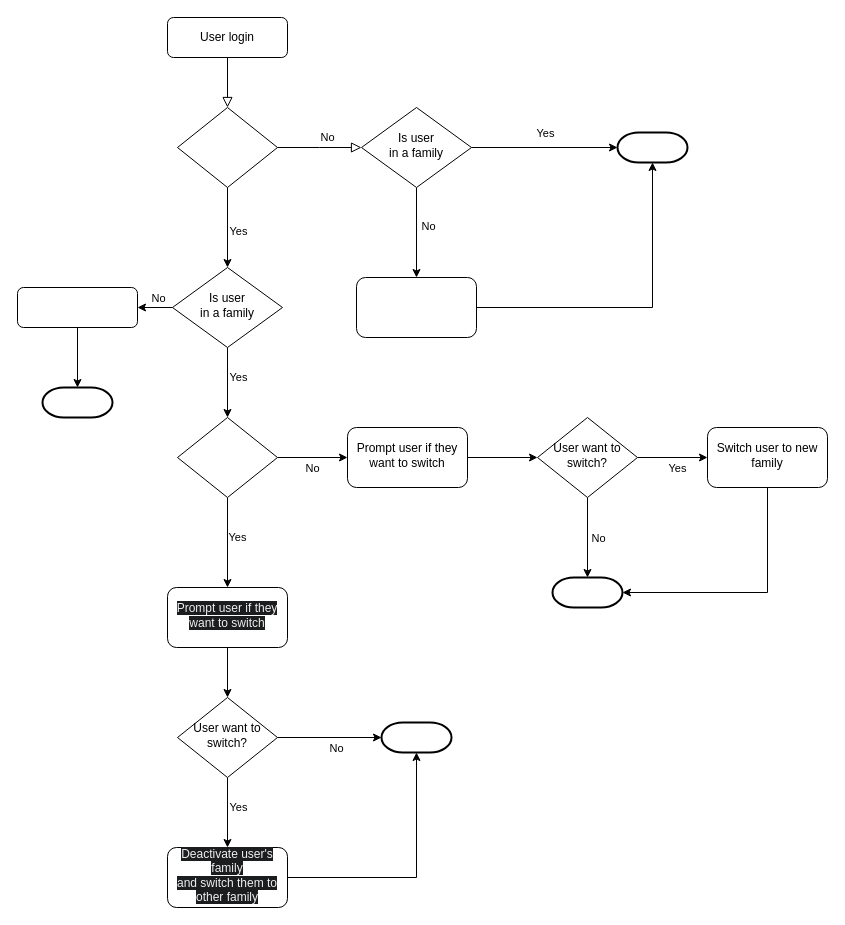
This 845x925 diagram has some shape labels left out. Here are the shapes that lost their labels. From the top down, the centre of each, then its label:
At (x=227, y=147): "User been invited to family?".
At (x=77, y=307): "Add user to family they invited to".
At (x=416, y=307): "Create new family & add user as owner".
At (x=227, y=457): "Is User the owner?".
